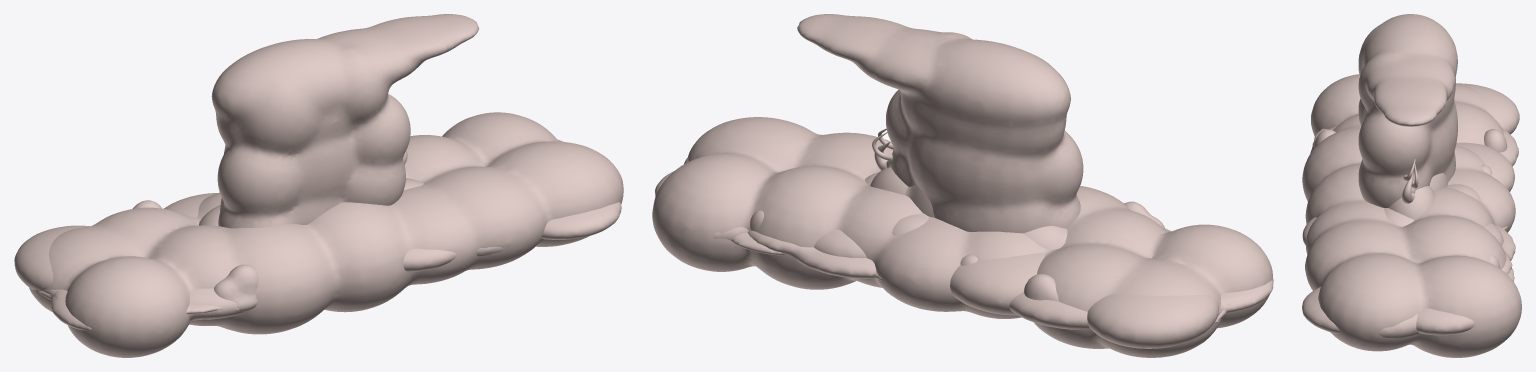
The model's file is cloud-shapes-v2.glb.
The picture shows the model from 3 angles, left to right: view 1: azimuth 30°, elevation 25°; view 2: azimuth 150°, elevation 25°; view 3: azimuth 270°, elevation 25°; orthographic projection. The views are drawn at different scales.
Visible parts, largest first — view 1: Ns, Cb, St, As, Ac; view 2: Ns, Cb, St, As, Ac, Sc, Cs, Cu_1, Ci; view 3: Ns, Cb, St, As, Cu_1, Ac, Sc, Ci, Cu_0.
Boxes of the visible parts, x1,y1,x2,y2 form: Ns: (29, 112, 623, 357); Cb: (211, 14, 479, 228); St: (14, 193, 503, 321); As: (40, 139, 621, 331); Ac: (132, 200, 258, 311); Ns: (652, 117, 1272, 357); Cb: (797, 14, 1083, 233); St: (684, 157, 1218, 348); As: (655, 171, 1273, 329); Ac: (750, 201, 1164, 301); Sc: (865, 172, 1067, 249); Cs: (731, 232, 1241, 323); Cu_1: (870, 167, 907, 194); Ci: (872, 128, 893, 170); Ns: (1302, 74, 1521, 357); Cb: (1358, 14, 1457, 207); St: (1312, 83, 1519, 338); As: (1302, 128, 1518, 335); Cu_1: (1388, 186, 1434, 219); Ac: (1310, 129, 1507, 268); Sc: (1384, 184, 1480, 226); Ci: (1402, 159, 1418, 203); Cu_0: (1429, 173, 1447, 191).
Bounding box in the file's own units: 24.95 × 10.71 × 9.54.
